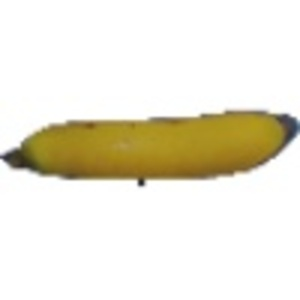banana: (1, 106, 297, 181)
